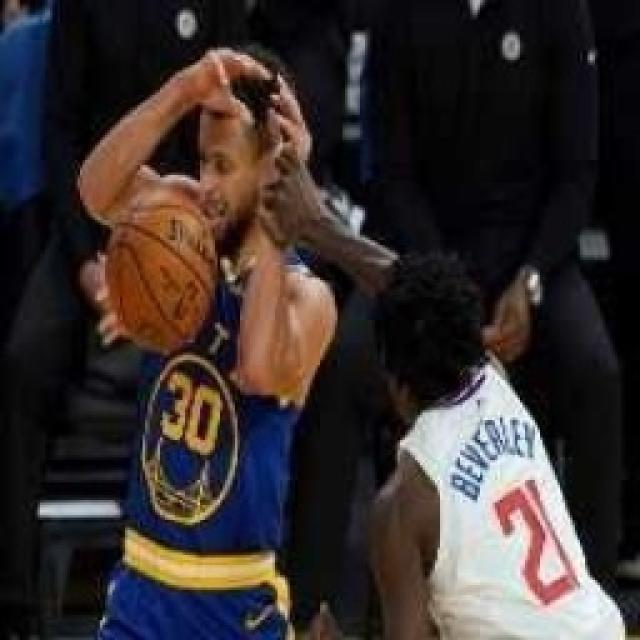basketball: (110, 192, 214, 340)
